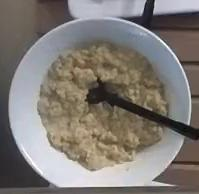oatmeal: (37, 40, 166, 169)
